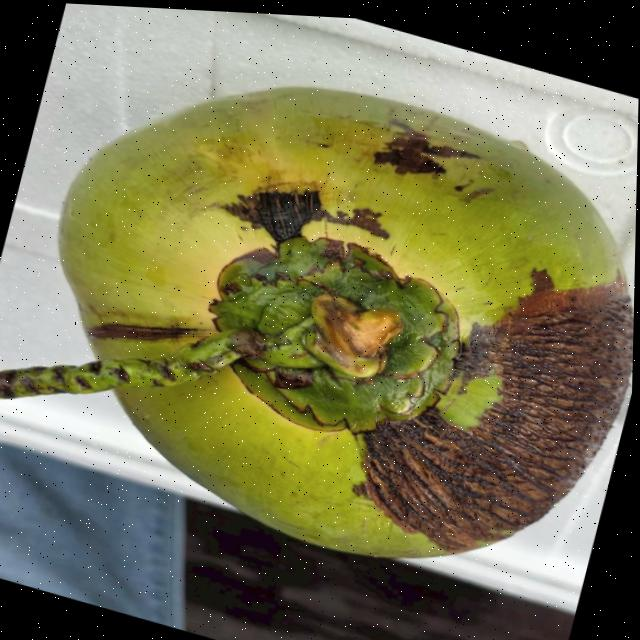coco_1.5: (128, 154, 550, 503)
